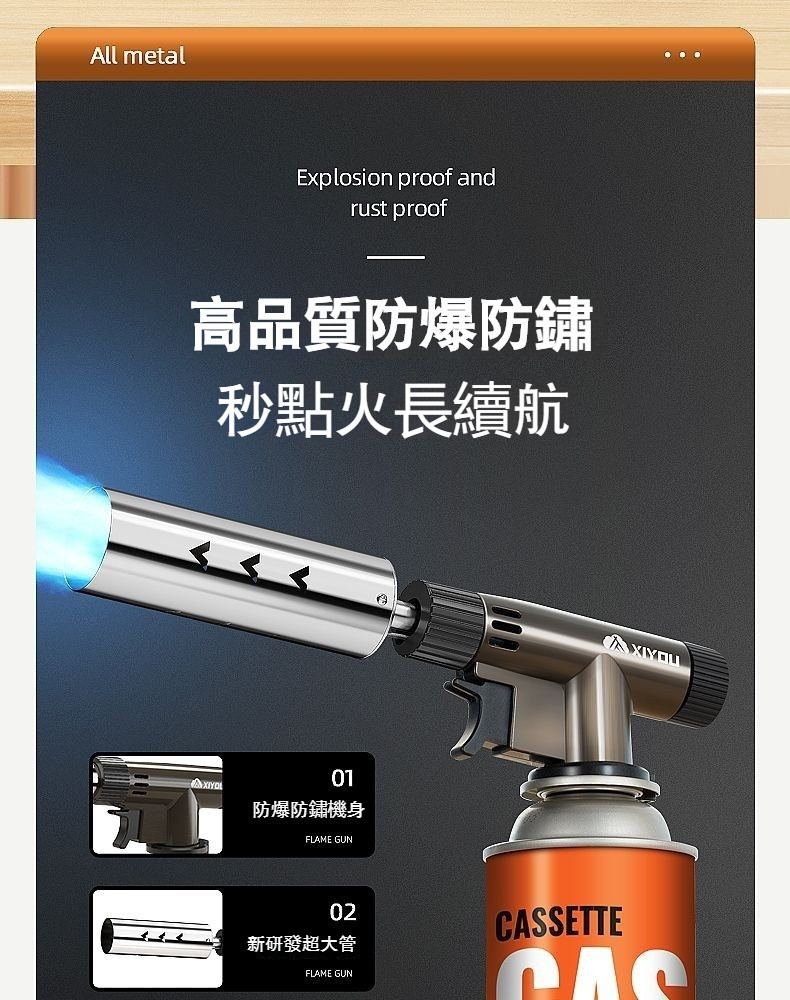gastorch: (87, 488, 746, 1000)
